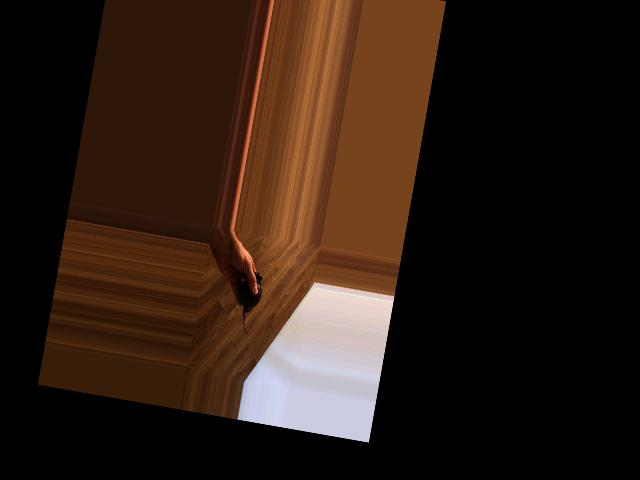beet: (232, 270, 265, 335)
